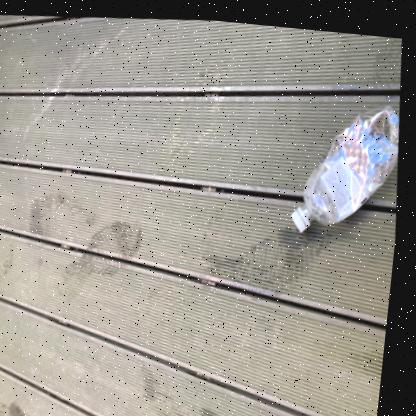Plastic: (297, 98, 401, 224)
